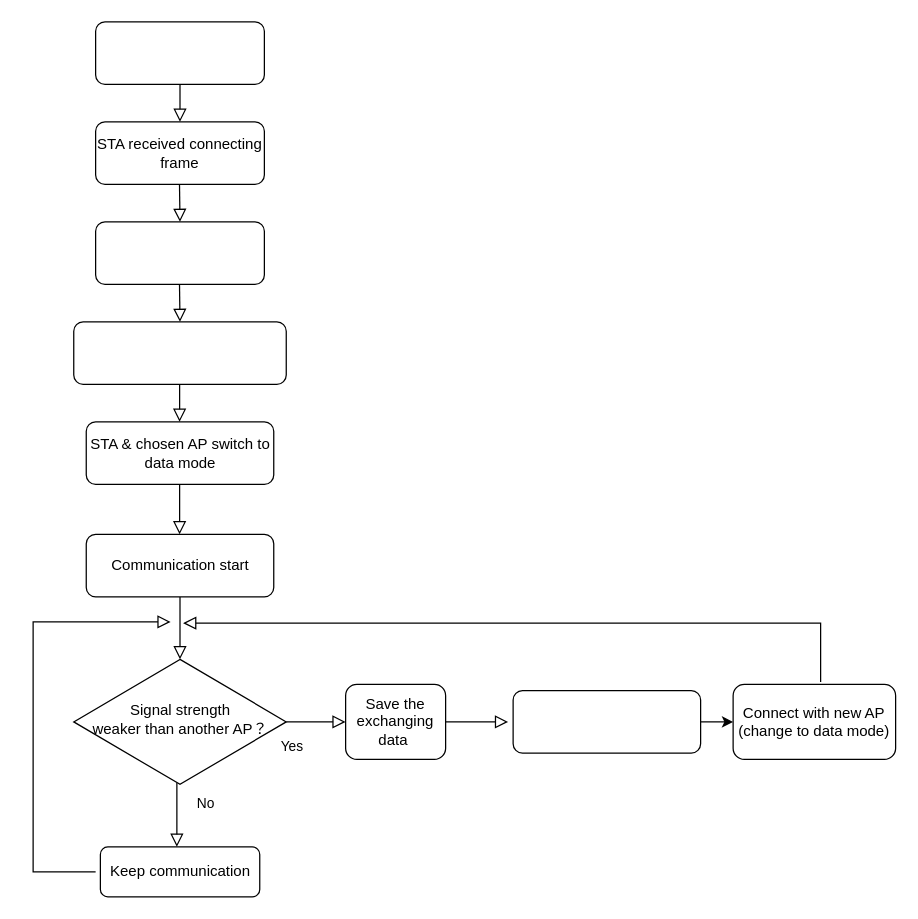
Some shapes in this 918 by 919 pixel diagram are drawn without their labels. Here are the shapes that lost their labels. From the top down, the centre of each, then its label:
At pixel 179 52: "AP1 & AP2 in beacon mode, send connecting frame".
At pixel 179 252: "STA compare the RSS of AP1 & AP2 and choose the stonger one".
At pixel 179 352: "STA Send connecting acknowledgement to the chosen AP".
At pixel 606 721: "Disconnect with previous AP(back to beacon mode)".
